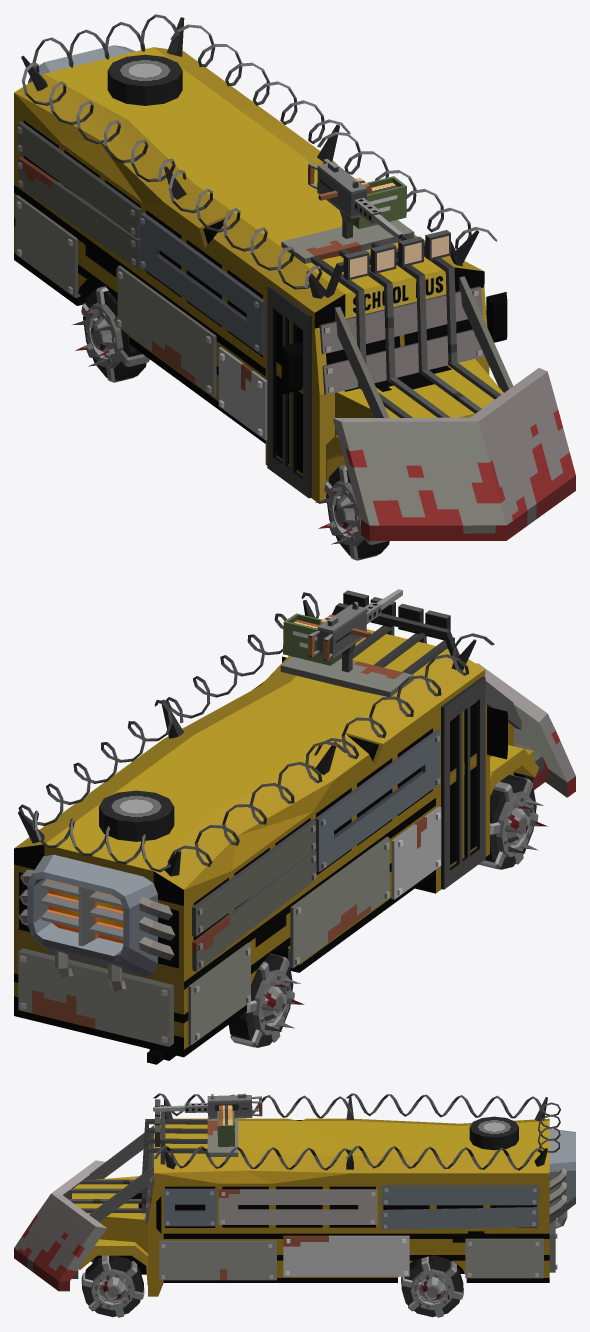
The model's file is 05_SA_Veh_Schoolbus.glb.
The picture shows the model from 3 angles, top to bottom: view 1: azimuth 30°, elevation 25°; view 2: azimuth 150°, elevation 25°; view 3: azimuth 270°, elevation 25°; orthographic projection. The views are drawn at different scales.
Parts seen in each view (by area): view 1: Body, armor_5, armor_2_part_B 6, armor_3_part_C_R 2, armor_3_part_B_R 6, armor_4_part_B_R 5, armor_3_part_A_R 4, gun, armor_4_part_C_R 1, armor_4_part_G, armor_2_part_A 7, armor_4_part_A_R 4 (+11 smaller); view 2: Body, Nitro, armor_4_part_D 1, armor_3_part_C_R 2, armor_3_part_B_R 6, armor_3_part_A_R 4, armor_4_part_B_R 5, gun, armor_2_part_B 6, armor_5, armor_4_part_C_R 1, Wheel_B_1gr (×2) (+11 smaller); view 3: Body, armor_5, armor_3_part_C_L 2, armor_4_part_B_L 5, armor_3_part_B_L 6, armor_4_part_A_L 4, armor_4_part_C_L 1, armor_2_part_B 6, Wheel_B_1gr (×2), Nitro, gun, armor_3_part_A_L 4 (+12 smaller).
Part boxes in pixels (bbox=[...]): Body: bbox=[14, 47, 507, 503]; armor_5: bbox=[332, 276, 575, 541]; armor_2_part_B 6: bbox=[281, 220, 484, 394]; armor_3_part_C_R 2: bbox=[17, 121, 142, 269]; armor_3_part_B_R 6: bbox=[140, 213, 265, 354]; armor_4_part_B_R 5: bbox=[116, 265, 216, 396]; armor_3_part_A_R 4: bbox=[267, 285, 311, 498]; gun: bbox=[308, 158, 406, 239]; armor_4_part_C_R 1: bbox=[15, 195, 80, 297]; armor_4_part_G: bbox=[107, 54, 182, 105]; armor_2_part_A 7: bbox=[324, 230, 462, 297]; armor_4_part_A_R 4: bbox=[218, 347, 267, 440]; Body: bbox=[14, 629, 538, 1064]; Nitro: bbox=[18, 854, 175, 991]; armor_4_part_D 1: bbox=[18, 948, 173, 1046]; armor_3_part_C_R 2: bbox=[192, 819, 316, 971]; armor_3_part_B_R 6: bbox=[315, 730, 440, 872]; armor_3_part_A_R 4: bbox=[441, 676, 485, 889]; armor_4_part_B_R 5: bbox=[288, 837, 389, 968]; gun: bbox=[283, 589, 402, 672]; armor_2_part_B 6: bbox=[280, 625, 454, 696]; armor_5: bbox=[476, 663, 575, 797]; armor_4_part_C_R 1: bbox=[188, 942, 250, 1045]; Wheel_B_1gr (×2): bbox=[253, 791, 534, 1035]; Body: bbox=[72, 1118, 549, 1296]; armor_5: bbox=[14, 1125, 153, 1291]; armor_3_part_C_L 2: bbox=[380, 1185, 539, 1229]; armor_4_part_B_L 5: bbox=[283, 1235, 409, 1276]; armor_3_part_B_L 6: bbox=[218, 1189, 377, 1224]; armor_4_part_A_L 4: bbox=[159, 1240, 276, 1280]; armor_4_part_C_L 1: bbox=[465, 1238, 543, 1278]; armor_2_part_B 6: bbox=[141, 1118, 238, 1223]; Wheel_B_1gr (×2): bbox=[90, 1269, 454, 1310]; Nitro: bbox=[549, 1129, 575, 1228]; gun: bbox=[153, 1093, 262, 1146]; armor_3_part_A_L 4: bbox=[164, 1188, 216, 1226].
Size of what is drawn, in the model's own units: 4.02 by 5.14 by 13.27.
Materials: 1 (1 with a texture image).
